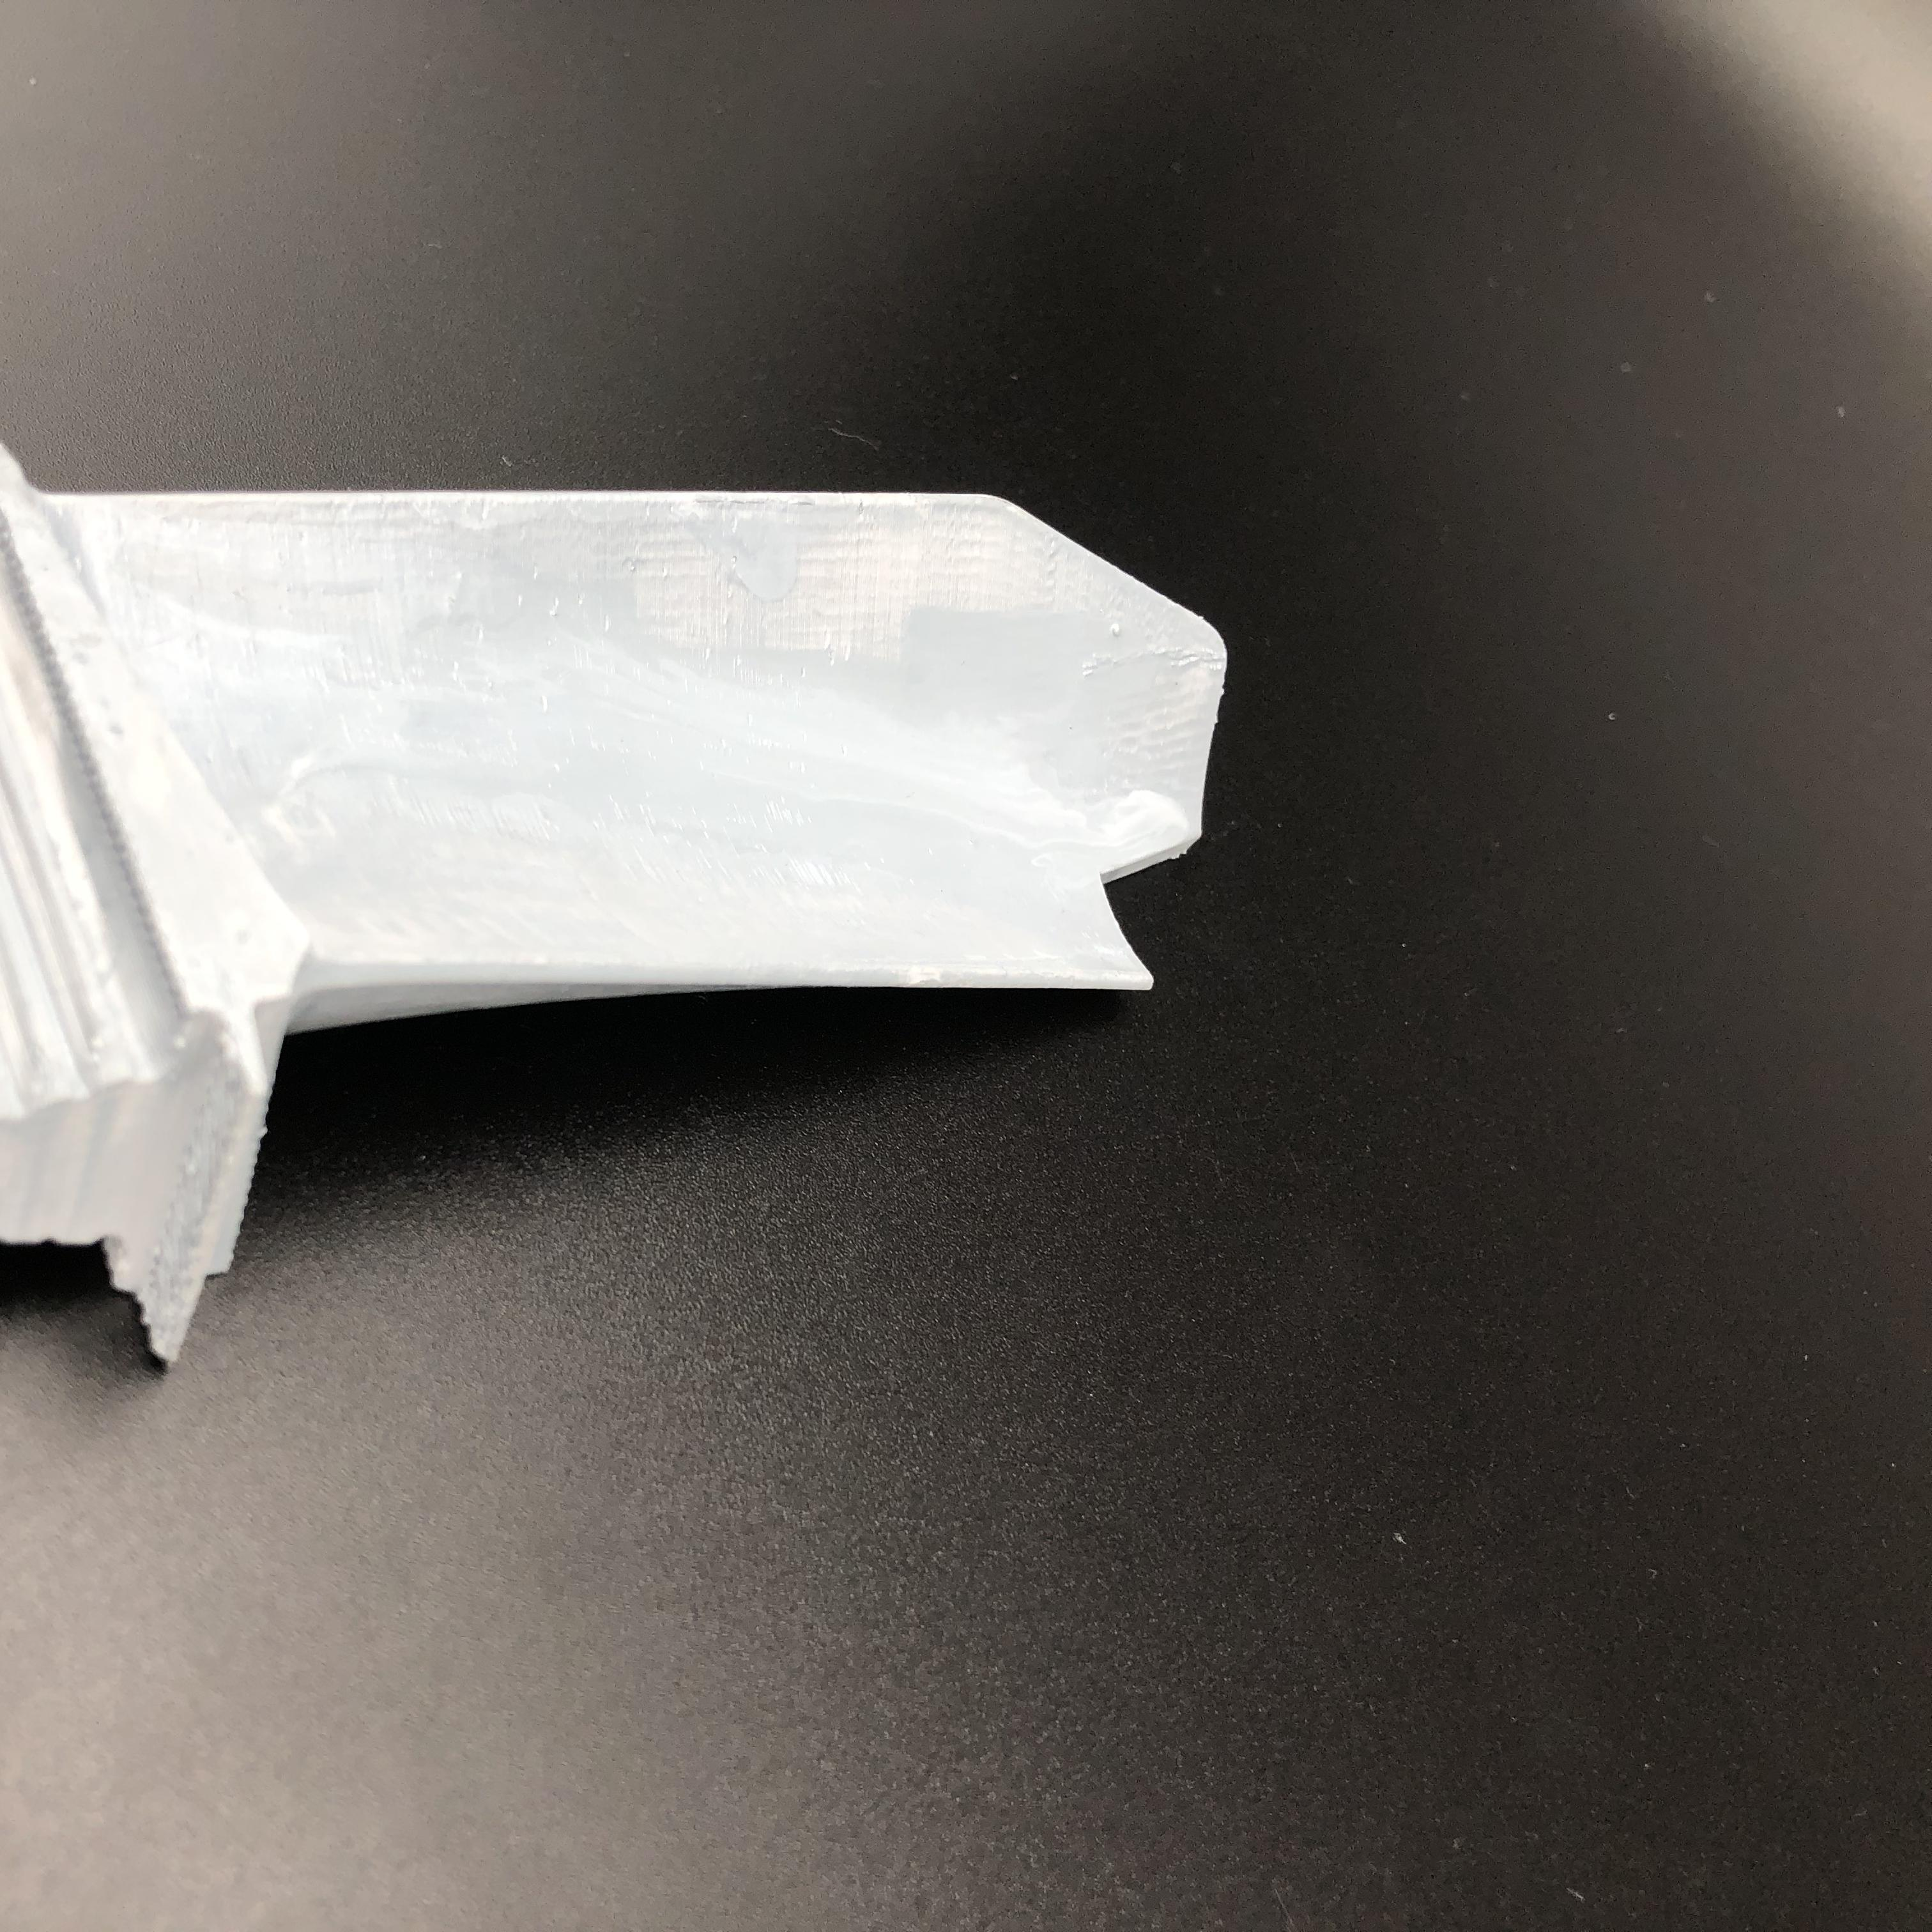fracture: (1095, 828, 1189, 987)
